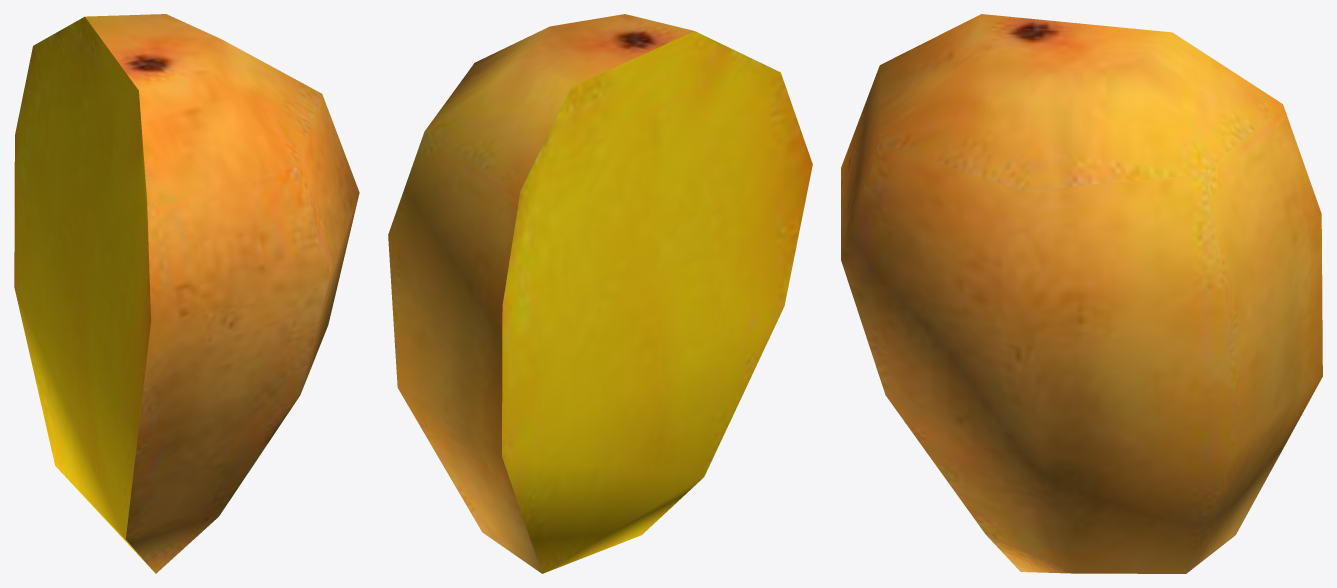
File: Mango_01.glb
The picture shows the model from 3 angles, left to right: view 1: azimuth 30°, elevation 25°; view 2: azimuth 150°, elevation 25°; view 3: azimuth 270°, elevation 25°; orthographic projection. The views are drawn at different scales.
Visible parts, largest first — view 1: Mango_01; view 2: Mango_01; view 3: Mango_01.
Part boxes in pixels (x1=…): Mango_01: x1=14, y1=14, x2=359, y2=573; Mango_01: x1=388, y1=14, x2=812, y2=573; Mango_01: x1=841, y1=14, x2=1322, y2=573.
Bounding box in the file's own units: 0.0993 × 0.166 × 0.1343.
Materials: 1 (1 with a texture image).
